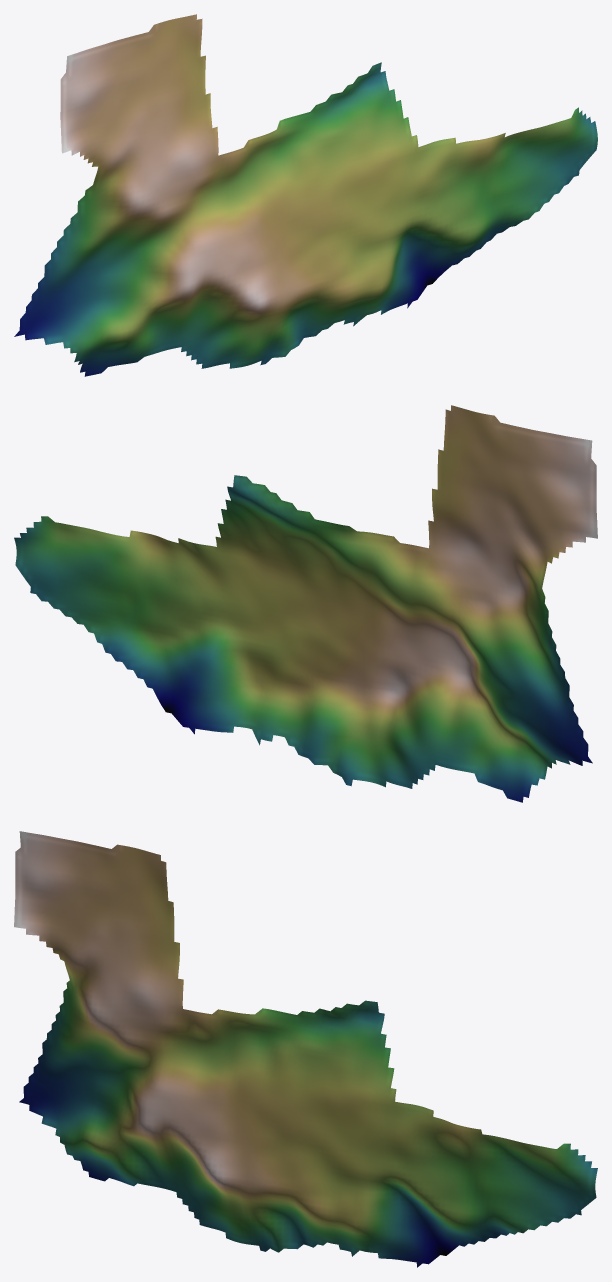
Rendered from tirumala_terrain_elevation.glb.
The picture shows the model from 3 angles, top to bottom: view 1: azimuth 30°, elevation 25°; view 2: azimuth 150°, elevation 25°; view 3: azimuth 330°, elevation 25°; orthographic projection.
Visible parts, largest first — view 1: Tirumala_Terrain_Mesh; view 2: Tirumala_Terrain_Mesh; view 3: Tirumala_Terrain_Mesh.
Boxes of the visible parts, bbox=[...] form: Tirumala_Terrain_Mesh: bbox=[14, 14, 597, 376]; Tirumala_Terrain_Mesh: bbox=[14, 405, 597, 802]; Tirumala_Terrain_Mesh: bbox=[14, 831, 597, 1267].
Bounding box in the file's own units: 8560 × 5440 × 719.
Materials: 1 (1 with a texture image).
